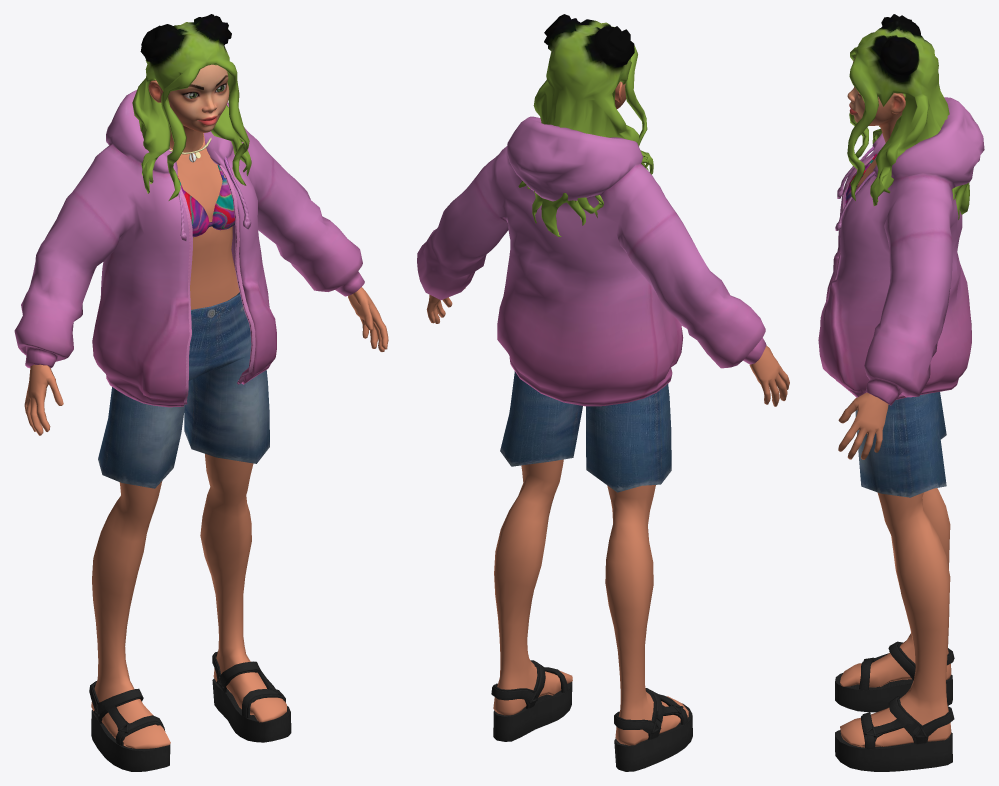
Rendered from billie.fbx.
3 renders of one model, left to right at view 1: azimuth 30°, elevation 25°; view 2: azimuth 150°, elevation 25°; view 3: azimuth 270°, elevation 25°, orthographic.
Visible parts, largest first — view 1: Wolf3D_Outfit_Top, Wolf3D_Body, Wolf3D_Outfit_Bottom, Wolf3D_Hair, Wolf3D_Outfit_Footwear, Wolf3D_Head; view 2: Wolf3D_Outfit_Top, Wolf3D_Body, Wolf3D_Outfit_Bottom, Wolf3D_Hair, Wolf3D_Outfit_Footwear; view 3: Wolf3D_Outfit_Top, Wolf3D_Body, Wolf3D_Hair, Wolf3D_Outfit_Footwear, Wolf3D_Outfit_Bottom, Wolf3D_Head.
Part boxes in pixels (x1=…): Wolf3D_Outfit_Top: x1=14, y1=90, x2=364, y2=407; Wolf3D_Body: x1=24, y1=133, x2=388, y2=748; Wolf3D_Outfit_Bottom: x1=98, y1=292, x2=269, y2=488; Wolf3D_Hair: x1=132, y1=14, x2=251, y2=200; Wolf3D_Outfit_Footwear: x1=89, y1=651, x2=291, y2=771; Wolf3D_Head: x1=148, y1=64, x2=229, y2=152; Wolf3D_Outfit_Top: x1=417, y1=116, x2=766, y2=406; Wolf3D_Body: x1=426, y1=288, x2=789, y2=745; Wolf3D_Outfit_Bottom: x1=500, y1=371, x2=671, y2=492; Wolf3D_Hair: x1=518, y1=14, x2=653, y2=236; Wolf3D_Outfit_Footwear: x1=491, y1=660, x2=692, y2=771; Wolf3D_Outfit_Top: x1=818, y1=97, x2=984, y2=405; Wolf3D_Body: x1=838, y1=159, x2=951, y2=747; Wolf3D_Hair: x1=847, y1=14, x2=969, y2=219; Wolf3D_Outfit_Footwear: x1=835, y1=641, x2=954, y2=771; Wolf3D_Outfit_Bottom: x1=855, y1=392, x2=946, y2=497; Wolf3D_Head: x1=847, y1=57, x2=905, y2=142.
Size of the model in its own units: 92.79 by 180 by 38.43.
